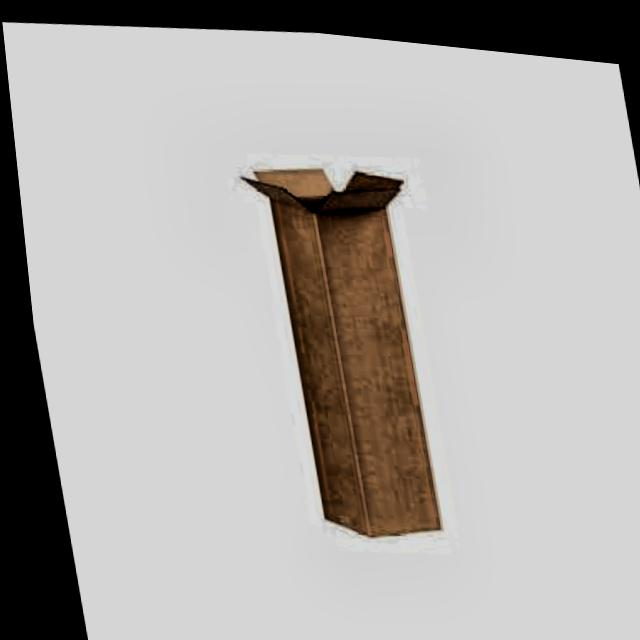Cardbox: (252, 153, 440, 544)
